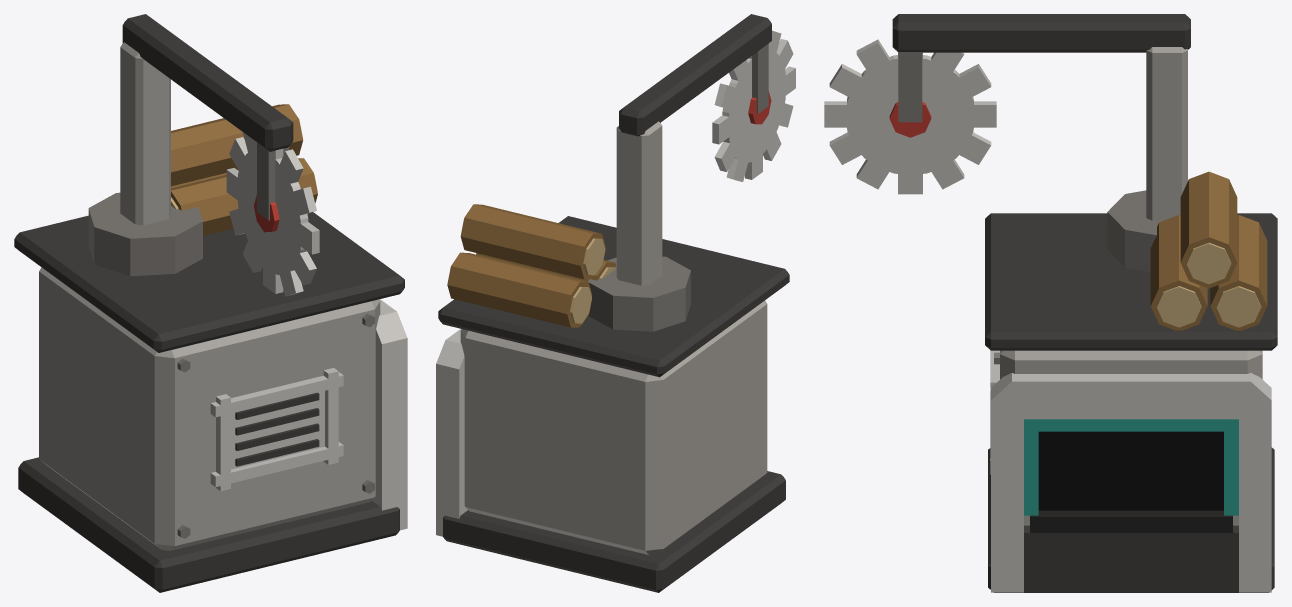
The model's file is logger.fbx.
The picture shows the model from 3 angles, left to right: view 1: azimuth 30°, elevation 25°; view 2: azimuth 150°, elevation 25°; view 3: azimuth 270°, elevation 25°; orthographic projection. The views are drawn at different scales.
Parts seen in each view (by area): view 1: logger; view 2: logger; view 3: logger.
Part boxes in pixels (<box>): logger: <box>14,14,407,592</box>; logger: <box>436,14,795,592</box>; logger: <box>824,14,1277,592</box>.
Bounding box in the file's own units: 2.97 × 5.48 × 4.56.
